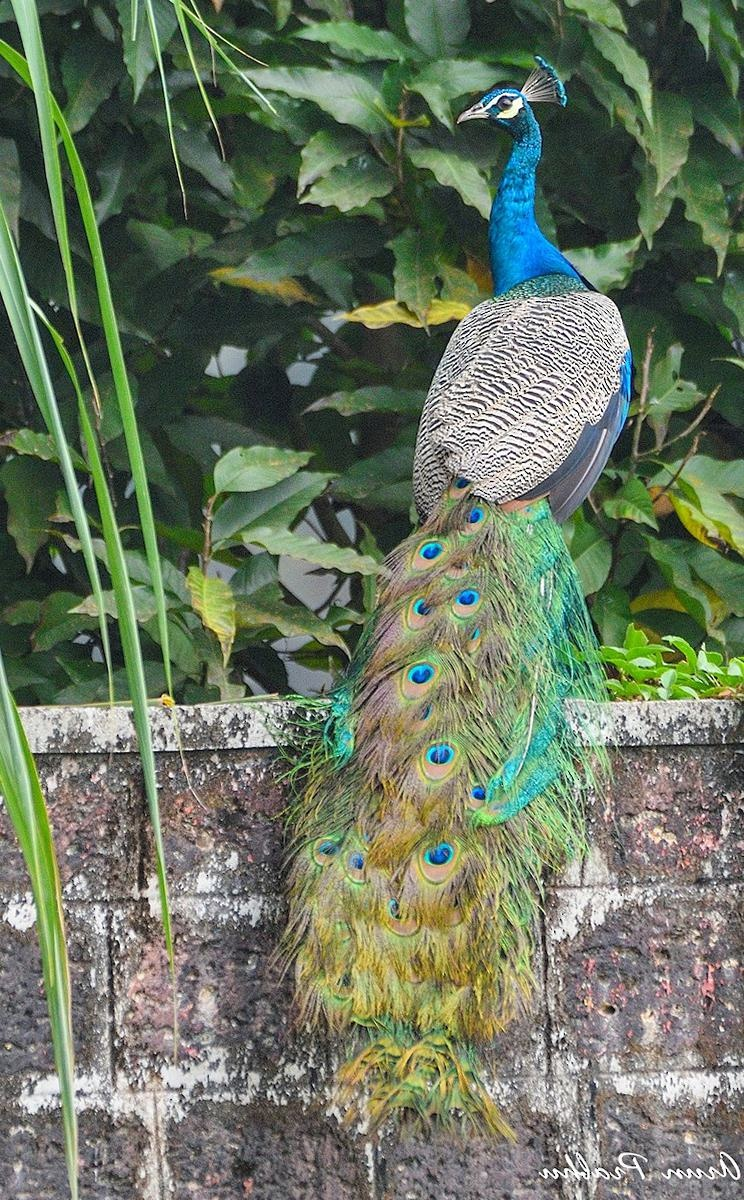peacock: (247, 40, 650, 1111)
